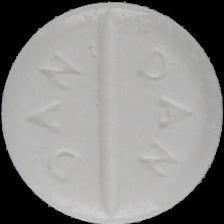0440-8165: (0, 0, 224, 224)
